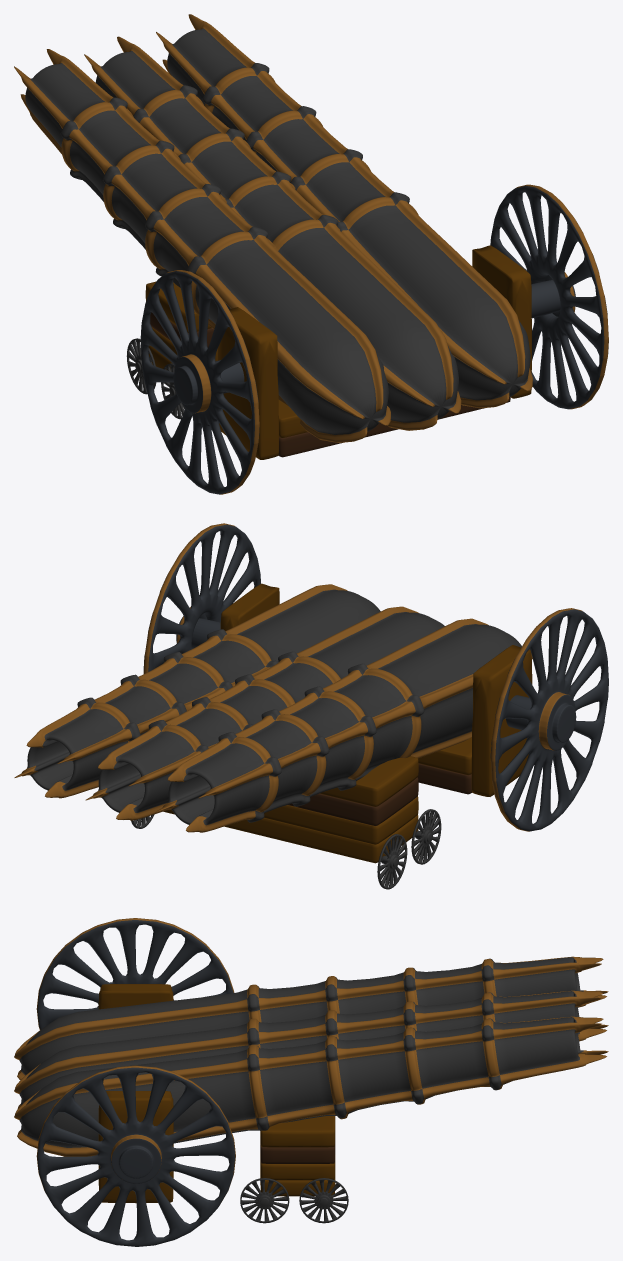
File: UpgradedCannon3.fbx
3 views of the same model, one above another, from view 1: azimuth 30°, elevation 25°; view 2: azimuth 150°, elevation 25°; view 3: azimuth 270°, elevation 25° (orthographic). The views are drawn at different scales.
Parts seen in each view (by area): view 1: Cylinder.004, Cylinder.005, Cylinder.003, Circle, Cube, Circle.001; view 2: Cylinder.004, Circle, Cylinder.005, Cube, Cylinder.003, Circle.001, Circle.002; view 3: Cylinder.005, Circle, Cylinder.004, Cylinder.003, Cube, Circle.002, Circle.001.
Part boxes in pixels (<box>): Cylinder.004: <box>14,49,390,442</box>; Cylinder.005: <box>156,14,532,408</box>; Cylinder.003: <box>84,36,461,430</box>; Circle: <box>140,184,608,494</box>; Cube: <box>145,245,531,459</box>; Circle.001: <box>126,338,156,394</box>; Cylinder.004: <box>155,618,532,832</box>; Circle: <box>143,523,608,831</box>; Cylinder.005: <box>14,584,380,798</box>; Cube: <box>163,583,532,863</box>; Cylinder.003: <box>85,606,444,820</box>; Circle.001: <box>131,814,407,889</box>; Circle.002: <box>411,809,441,864</box>; Cylinder.005: <box>14,1016,608,1156</box>; Circle: <box>36,918,235,1246</box>; Cylinder.004: <box>14,956,608,1079</box>; Cylinder.003: <box>14,990,608,1109</box>; Cube: <box>98,984,335,1203</box>; Circle.002: <box>240,1178,289,1223</box>; Circle.001: <box>299,1178,348,1223</box>.
Bounding box in the file's own units: 1021 × 546 × 1584.
